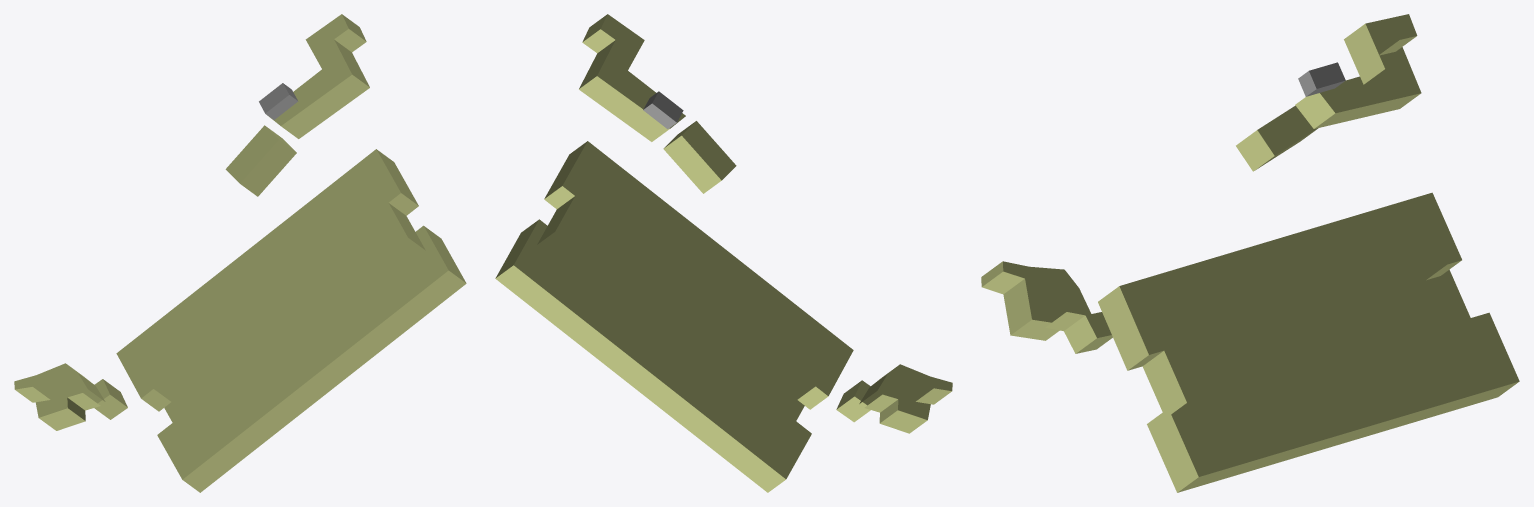
3 views of the same model, side by side, from view 1: azimuth 30°, elevation 25°; view 2: azimuth 150°, elevation 25°; view 3: azimuth 330°, elevation 25° (orthographic). The views are drawn at different scales.
Parts seen in each view (by area): view 1: 0_1_0_0_1_0_3_0; view 2: 0_1_0_0_1_0_3_0; view 3: 0_1_0_0_1_0_3_0.
Part boxes in pixels (x1,y1,x2,y2): 0_1_0_0_1_0_3_0: (14, 14, 466, 492); 0_1_0_0_1_0_3_0: (495, 14, 952, 492); 0_1_0_0_1_0_3_0: (981, 14, 1519, 492).
Size of the model in its own units: 83.29 by 77.37 by 8.5.
